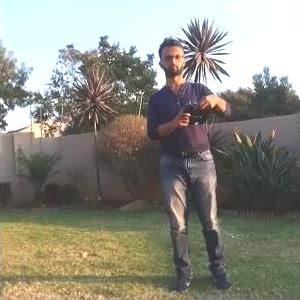follow: (143, 30, 237, 297)
